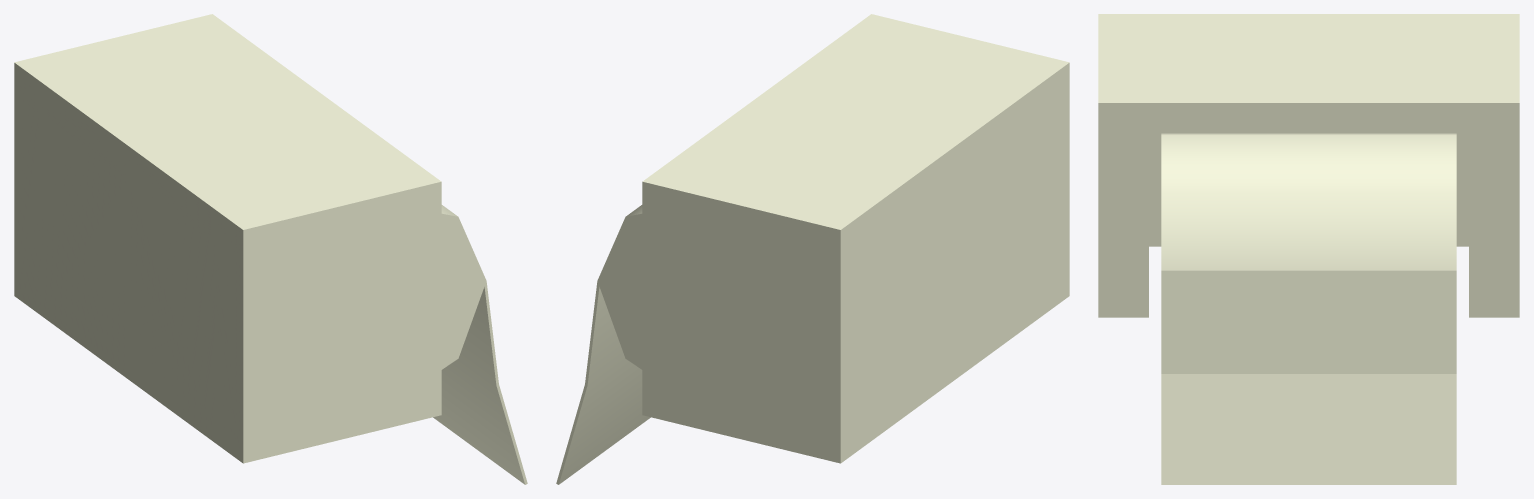
The model's file is papel.fbx.
The picture shows the model from 3 angles, left to right: view 1: azimuth 30°, elevation 25°; view 2: azimuth 150°, elevation 25°; view 3: azimuth 270°, elevation 25°; orthographic projection. The views are drawn at different scales.
Parts seen in each view (by area): view 1: ToiletPaperHolder.001, ToiletPaper.001; view 2: ToiletPaperHolder.001, ToiletPaper.001; view 3: ToiletPaper.001, ToiletPaperHolder.001.
Part boxes in pixels (x1,y1,x2,y2): ToiletPaperHolder.001: (14,14,441,463); ToiletPaper.001: (433,205,527,484); ToiletPaperHolder.001: (642,14,1069,463); ToiletPaper.001: (556,205,650,484); ToiletPaper.001: (1161,133,1456,484); ToiletPaperHolder.001: (1098,14,1519,317).
Size of the model in its own units: 20.09 by 21.5 by 25.
